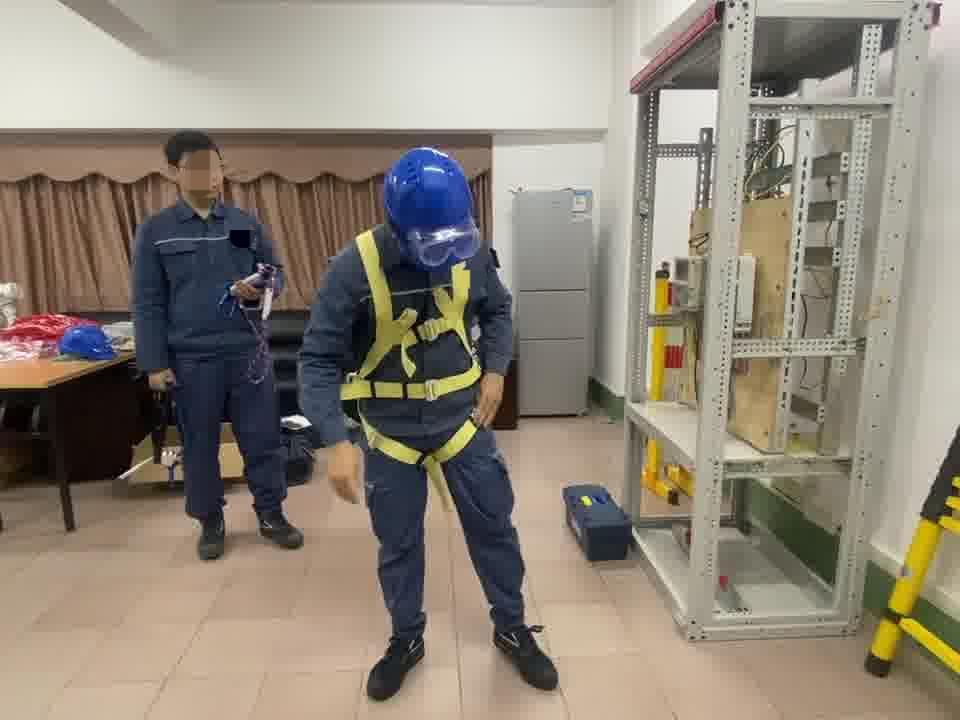halt: (384, 149, 481, 255)
unhalt: (167, 131, 228, 208)
